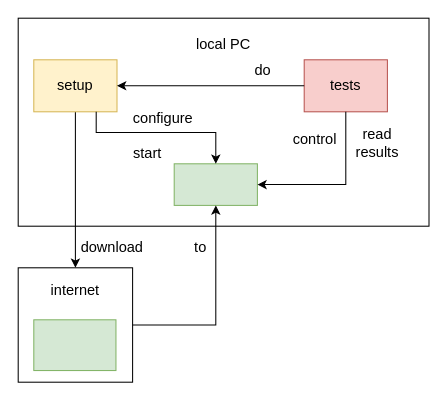
This 447x400 diagram has some shape labels left out. The centre of each missing label's shape, as x and y in pixels:
"diva & Iroha code" belongs at pixel 74 345.
"diva network" belongs at pixel 215 184.
